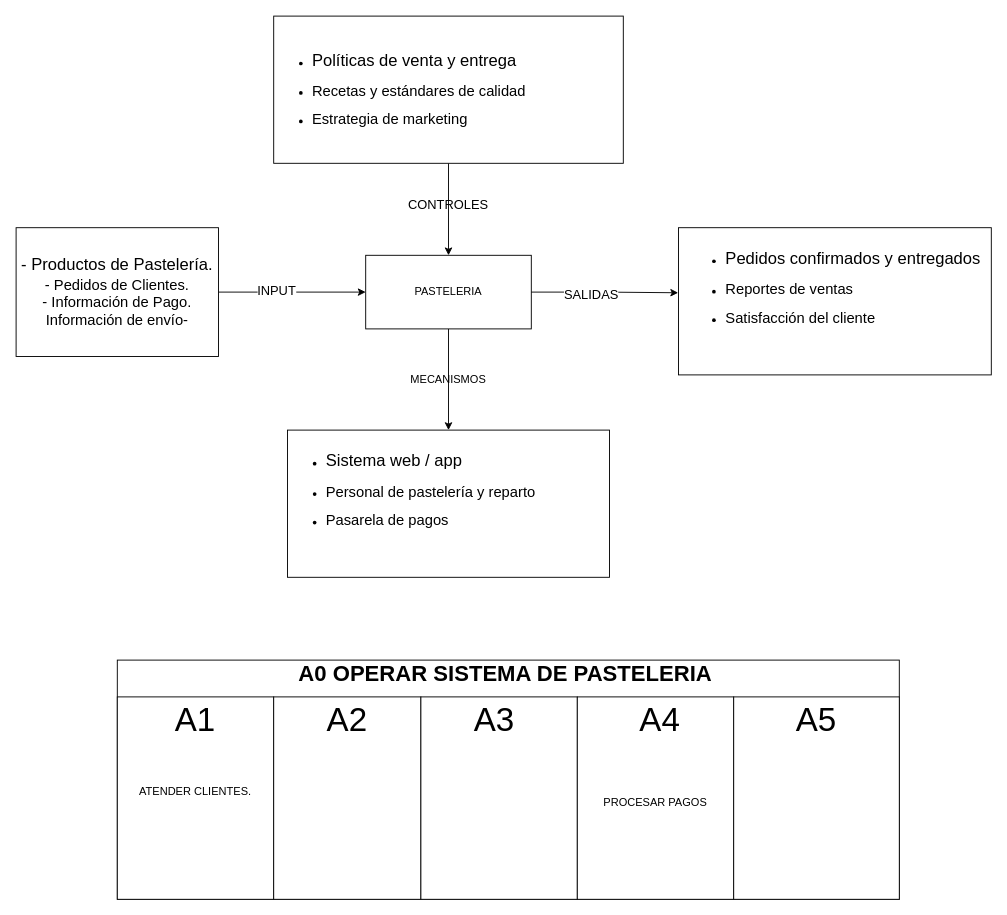
Some shapes in this 1007 by 915 pixel diagram are drawn without their labels. The shapes that lost their labels are listed below. From the top down, each one's box as (x1, y1, x2, y2) in pixels, then its label:
(273, 696, 421, 899): ATENDER PEDIDOS
(420, 696, 577, 899): GESTIONAR PRODUCTOS
(733, 696, 899, 899): COORDINAR PRODUCCION Y ENTREGA
